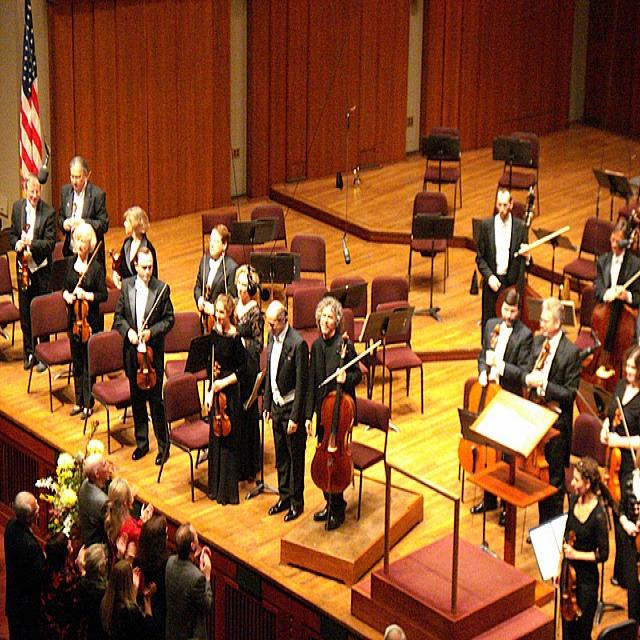cello: (457, 324, 512, 478), (310, 331, 360, 494)
violin: (600, 408, 625, 506), (558, 528, 582, 625), (210, 358, 232, 438), (134, 324, 157, 394), (70, 273, 92, 346), (19, 234, 32, 291)
